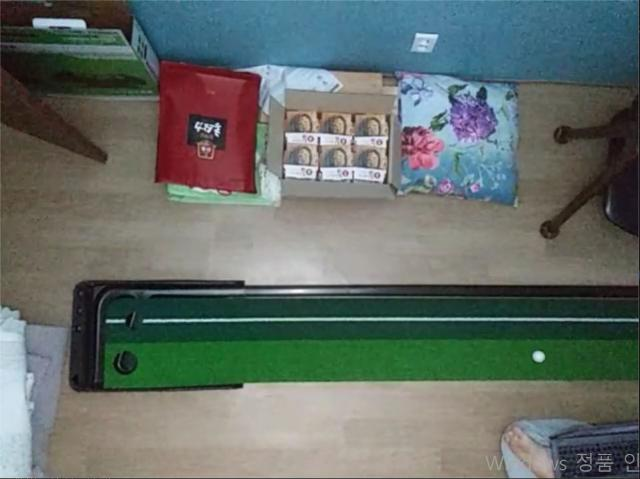golf_ball: (530, 349, 547, 366)
green_zone: (103, 298, 637, 388)
hole: (112, 350, 139, 376), (125, 311, 143, 332)
